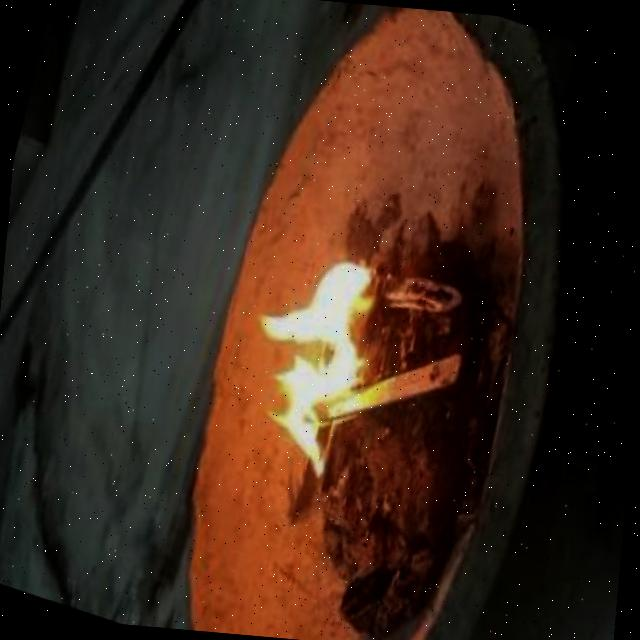fire: (242, 246, 388, 466)
